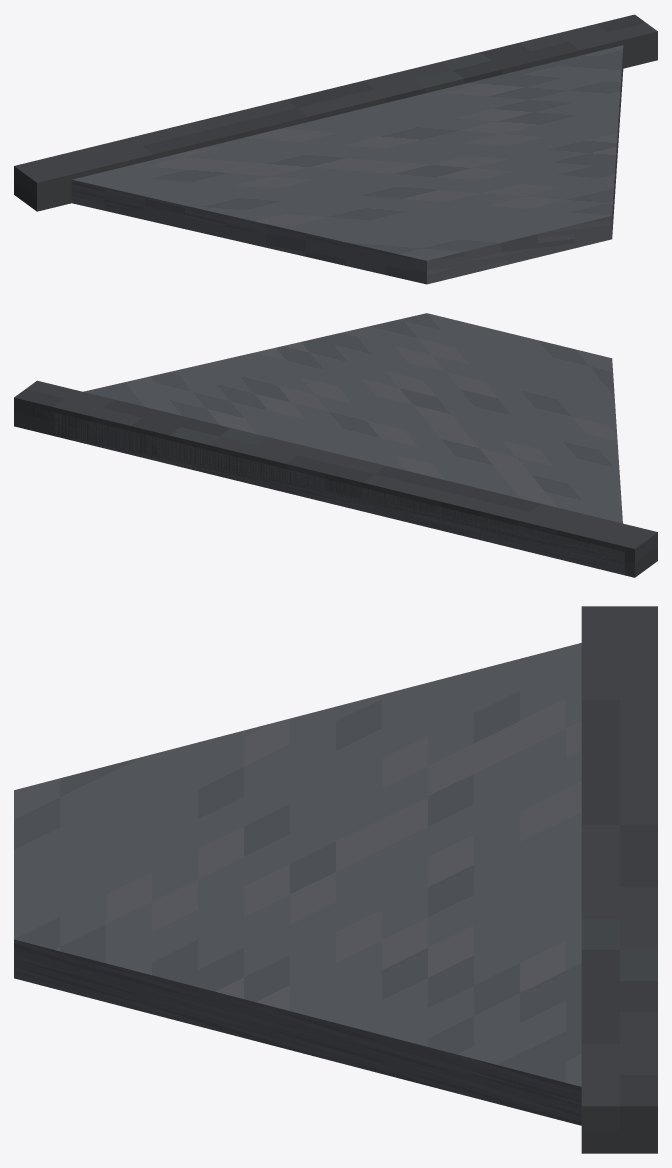
Rendered from speedo.glb.
The picture shows the model from 3 angles, top to bottom: view 1: azimuth 30°, elevation 25°; view 2: azimuth 150°, elevation 25°; view 3: azimuth 270°, elevation 25°; orthographic projection. The views are drawn at different scales.
Visible parts, largest first — view 1: block_briefs panel, block_elastic band; view 2: block_briefs panel, block_elastic band; view 3: block_briefs panel, block_elastic band.
Part boxes in pixels (x1,y1,x2,y2): block_briefs panel: (71,45,623,284); block_elastic band: (14,14,657,211); block_briefs panel: (24,313,624,575); block_elastic band: (14,380,657,577); block_briefs panel: (14,643,581,1125); block_elastic band: (581,606,657,1153).
Size of the model in its own units: 0.308 by 0.0137 by 0.1677.
1 material, 1 textured.
